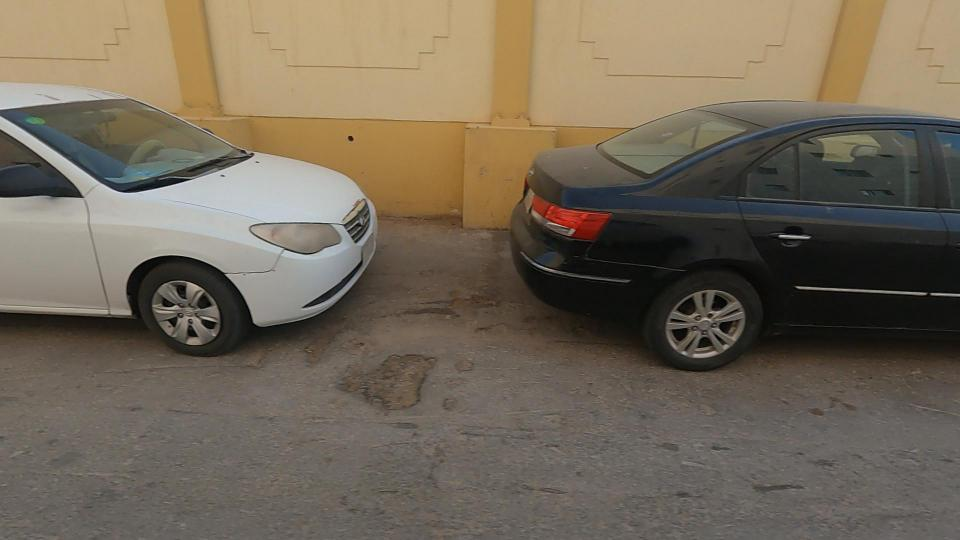POTHOLES: (263, 282, 536, 488)
